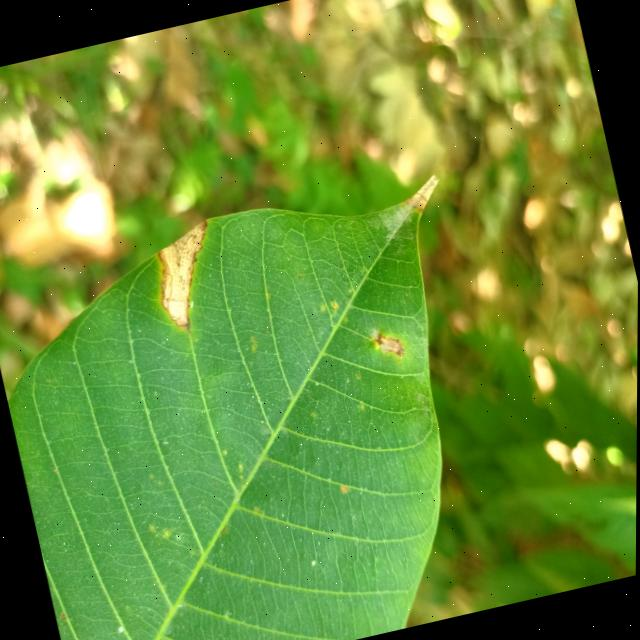Leaf-Blight: (147, 219, 228, 329), (403, 172, 444, 211), (377, 332, 401, 354)
